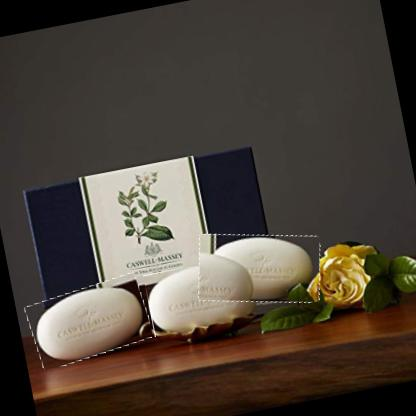soap: (190, 218, 328, 318), (23, 274, 154, 369), (143, 252, 267, 342)
